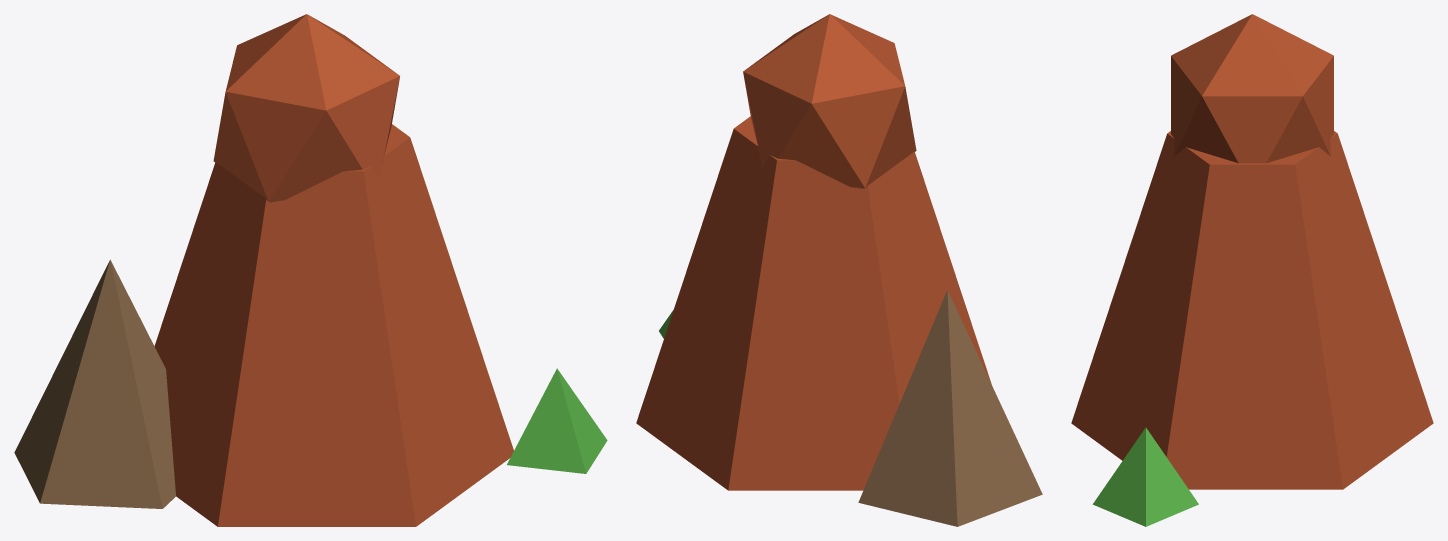
The model's file is cupinzeiro.glb.
3 views of the same model, side by side, from view 1: azimuth 30°, elevation 25°; view 2: azimuth 150°, elevation 25°; view 3: azimuth 270°, elevation 25° (orthographic). The views are drawn at different scales.
Parts seen in each view (by area): view 1: corpo; view 2: corpo; view 3: corpo.
Boxes of the visible parts, bbox=[...] form: corpo: bbox=[14, 14, 607, 526]; corpo: bbox=[636, 14, 1042, 526]; corpo: bbox=[1071, 14, 1433, 526].
Bounding box in the file's own units: 0.4856 × 0.419 × 0.34.
